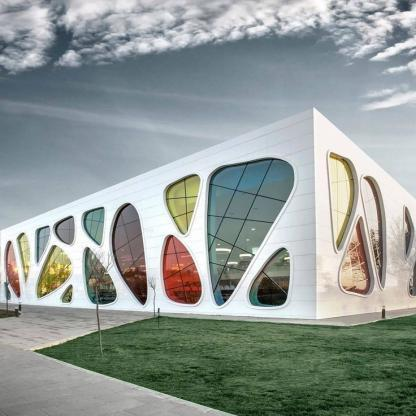Building Outline: (0, 107, 416, 321)
Dont: (79, 245, 116, 356), (146, 276, 156, 319), (5, 273, 10, 314), (14, 302, 21, 317), (157, 308, 160, 328)
Facade: (0, 107, 317, 320)
Ground Floor: (0, 107, 317, 320)
Window: (205, 157, 294, 307), (109, 203, 148, 306), (160, 234, 202, 305), (246, 247, 290, 307), (162, 174, 201, 235), (35, 245, 72, 299), (3, 241, 21, 299), (81, 207, 105, 246), (16, 232, 30, 285), (53, 215, 75, 245), (34, 225, 50, 265), (59, 284, 73, 303), (3, 282, 11, 301)
